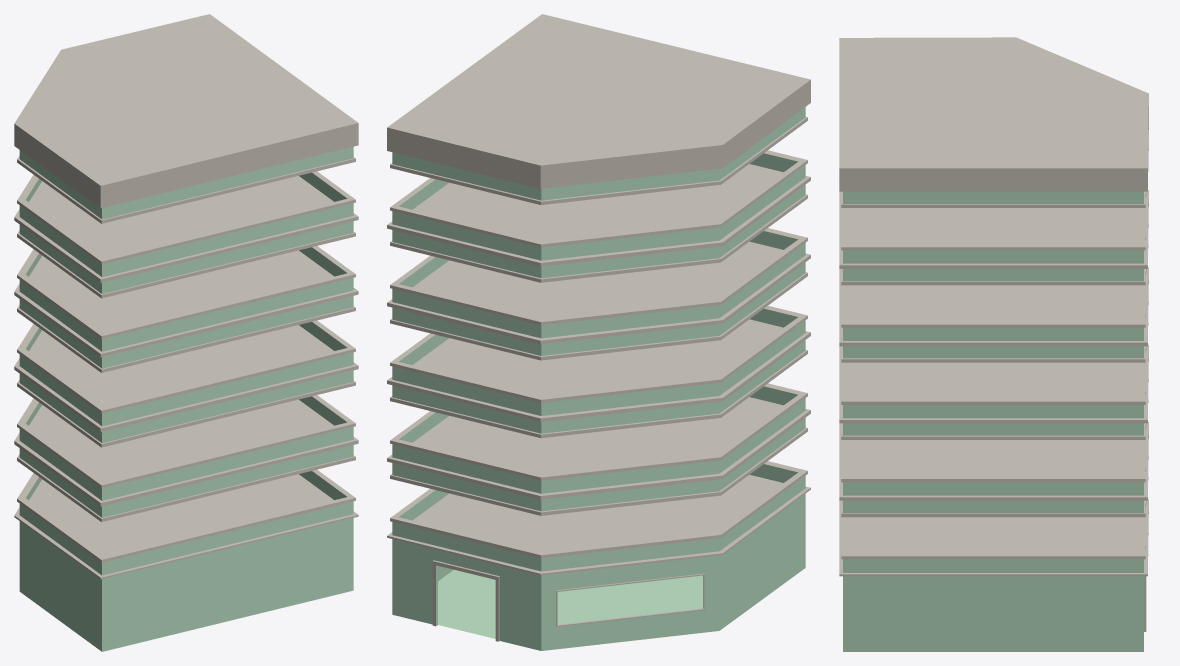
Rendered from Bld_C_high_L5_C.fbx.
3 views of the same model, side by side, from view 1: azimuth 30°, elevation 25°; view 2: azimuth 150°, elevation 25°; view 3: azimuth 270°, elevation 25° (orthographic). The views are drawn at different scales.
Parts seen in each view (by area): view 1: Bld_C_high_L5_C_LOD0; view 2: Bld_C_high_L5_C_LOD0; view 3: Bld_C_high_L5_C_LOD0.
Part boxes in pixels (left/top/right/bottom): Bld_C_high_L5_C_LOD0: left=14, top=14, right=358, bottom=651; Bld_C_high_L5_C_LOD0: left=387, top=14, right=810, bottom=650; Bld_C_high_L5_C_LOD0: left=839, top=37, right=1148, bottom=651.
Size of what is drawn, in the model's own units: 2100 by 4179 by 2214.
1 material, 1 textured.
